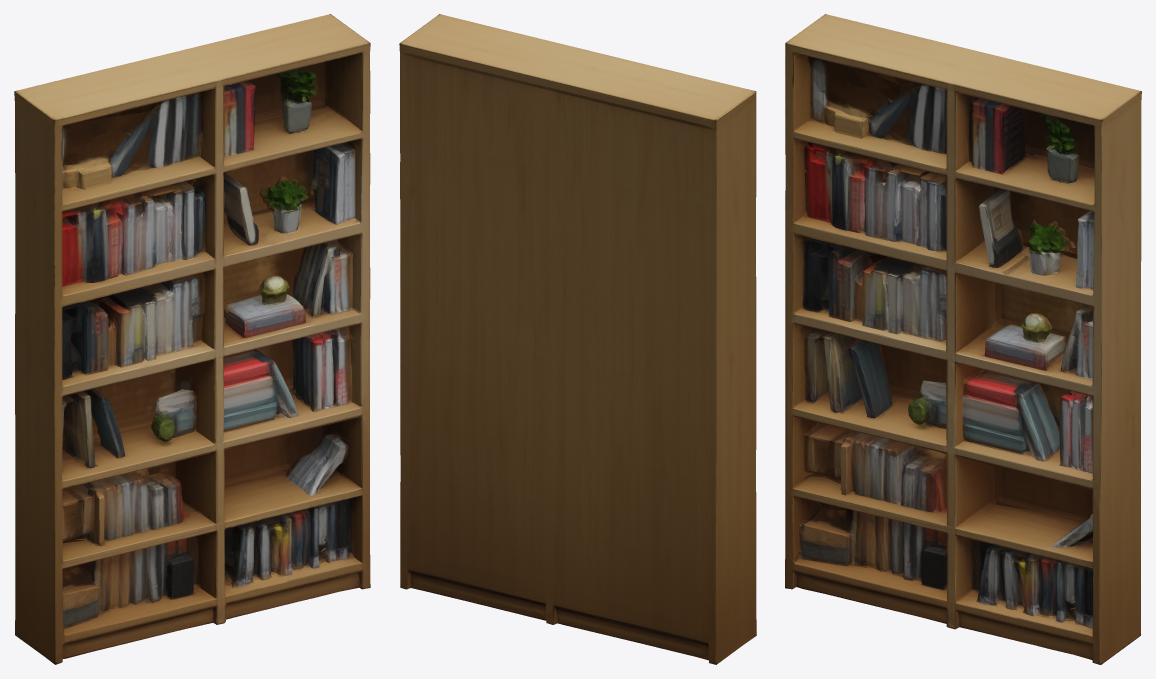
3 renders of one model, left to right at view 1: azimuth 30°, elevation 25°; view 2: azimuth 150°, elevation 25°; view 3: azimuth 330°, elevation 25°, orthographic.
Visible parts, largest first — view 1: geometry_0; view 2: geometry_0; view 3: geometry_0.
Part boxes in pixels (x1,y1,x2,y2): geometry_0: [14, 14, 370, 664]; geometry_0: [399, 14, 756, 664]; geometry_0: [785, 14, 1141, 664].
Bounding box in the file's own units: 0.6092 × 1 × 0.1366.
1 material, 1 textured.
